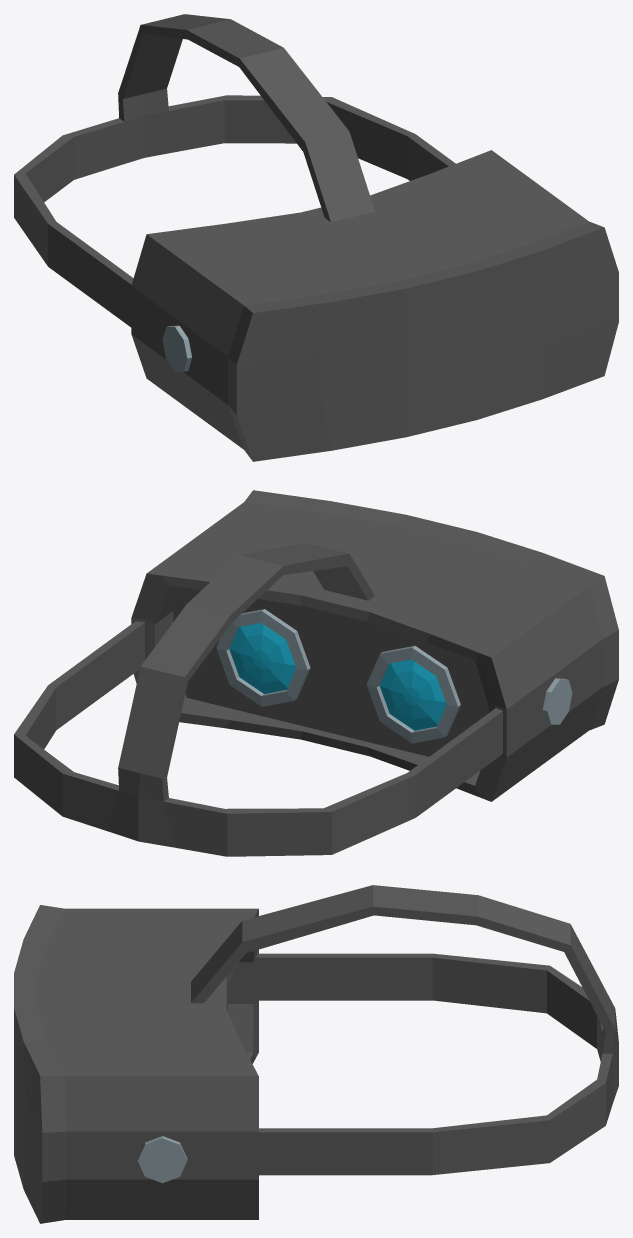
The model's file is High-end_headset_01.gltf.
3 renders of one model, top to bottom at view 1: azimuth 30°, elevation 25°; view 2: azimuth 150°, elevation 25°; view 3: azimuth 270°, elevation 25°, orthographic.
Visible parts, largest first — view 1: node-0; view 2: node-0; view 3: node-0.
Part boxes in pixels (x1,y1,x2,y2): node-0: (14,14,618,461); node-0: (14,490,618,856); node-0: (14,885,618,1223).
Bounding box in the file's own units: 16.35 × 9.88 × 22.33.
